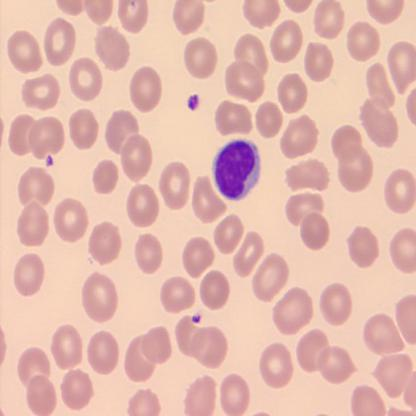Lymphocyte: (212, 138, 260, 202)
